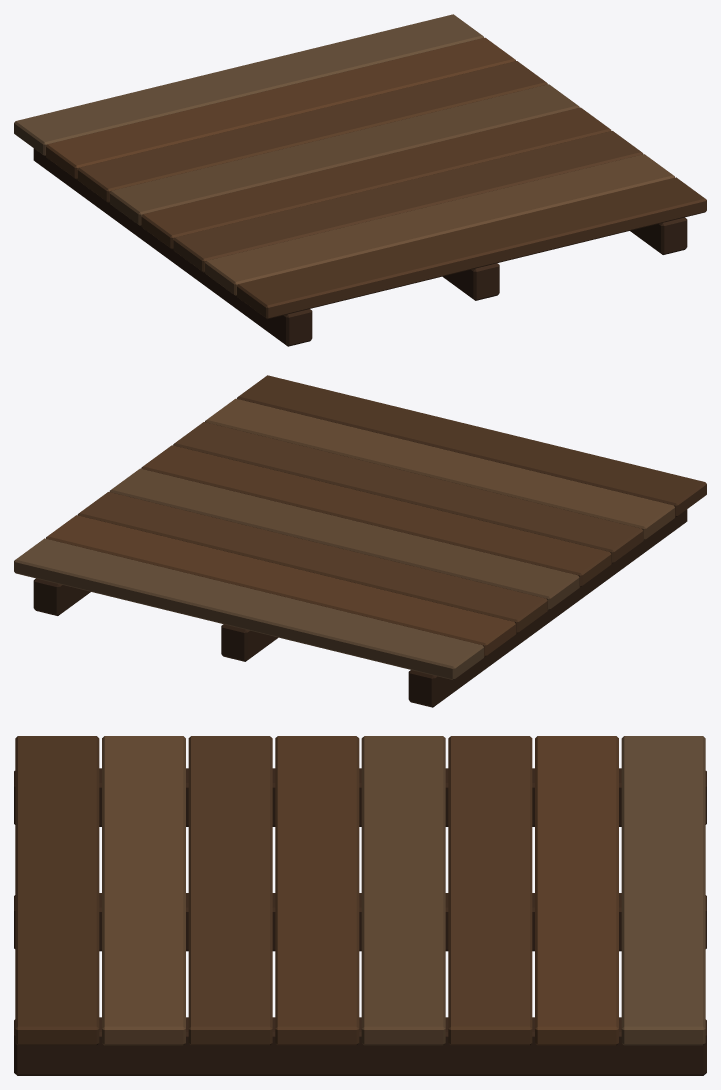
The model's file is piece_woodfloor.glb.
3 renders of one model, top to bottom at view 1: azimuth 30°, elevation 25°; view 2: azimuth 150°, elevation 25°; view 3: azimuth 270°, elevation 25°, orthographic. The views are drawn at different scales.
Parts seen in each view (by area): view 1: Base; view 2: Base; view 3: Base.
Part boxes in pixels (x1=…): Base: x1=14, y1=14, x2=706, y2=346; Base: x1=14, y1=375, x2=706, y2=707; Base: x1=14, y1=736, x2=706, y2=1075.
Size of the model in its own units: 4 by 0.4 by 4.
